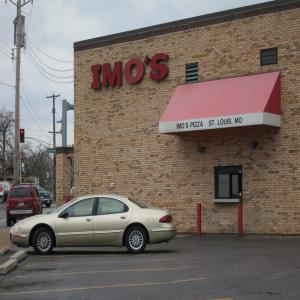Vehicle-registration-plate: (19, 202, 24, 207), (48, 201, 50, 204)
